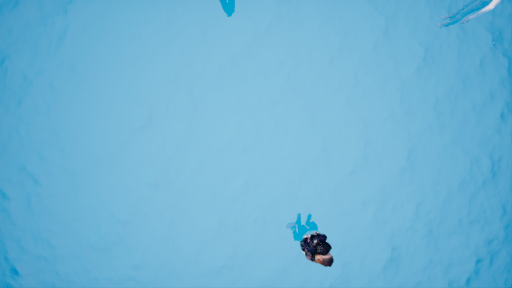person: (293, 210, 343, 267), (438, 1, 504, 34)
